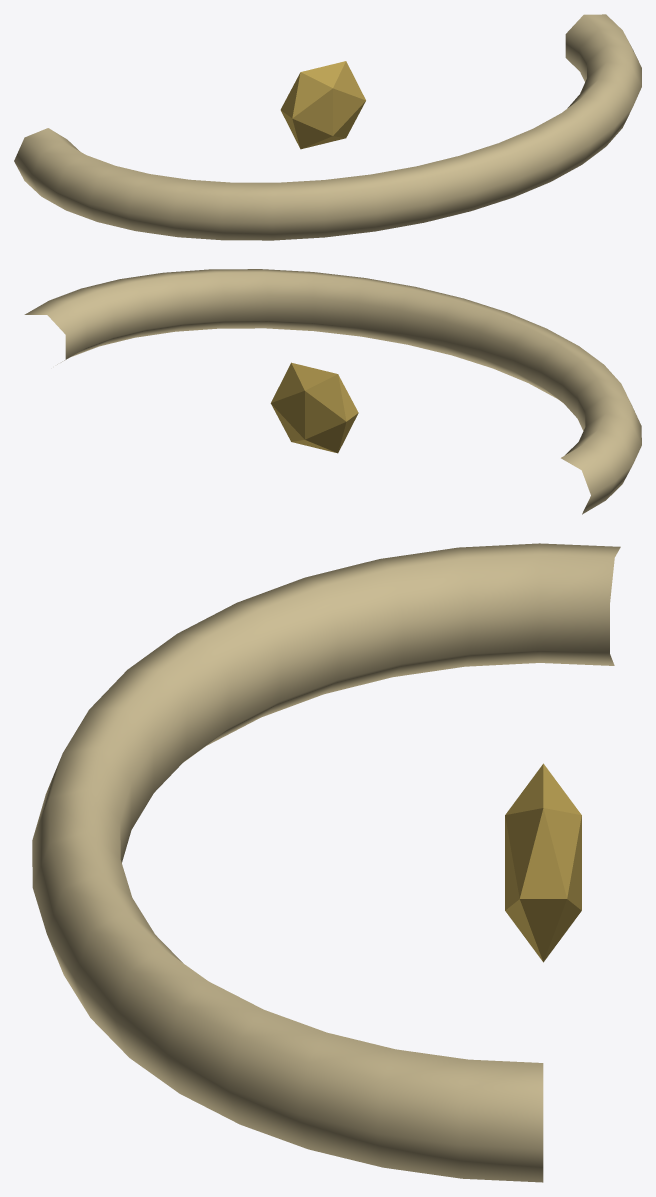
The model's file is wpn_m_01.glb.
3 renders of one model, top to bottom at view 1: azimuth 30°, elevation 25°; view 2: azimuth 150°, elevation 25°; view 3: azimuth 270°, elevation 25°, orthographic. The views are drawn at different scales.
Visible parts, largest first — view 1: attack_arc, attack_core; view 2: attack_arc, attack_core; view 3: attack_arc, attack_core.
Boxes of the visible parts, <box> form: attack_arc: <box>14,14,641,240</box>; attack_core: <box>280,61,365,149</box>; attack_arc: <box>24,269,641,514</box>; attack_core: <box>270,362,358,453</box>; attack_arc: <box>32,543,620,1182</box>; attack_core: <box>505,763,581,962</box>.
Size of the model in its own units: 1.21 by 0.1531 by 0.5307.
